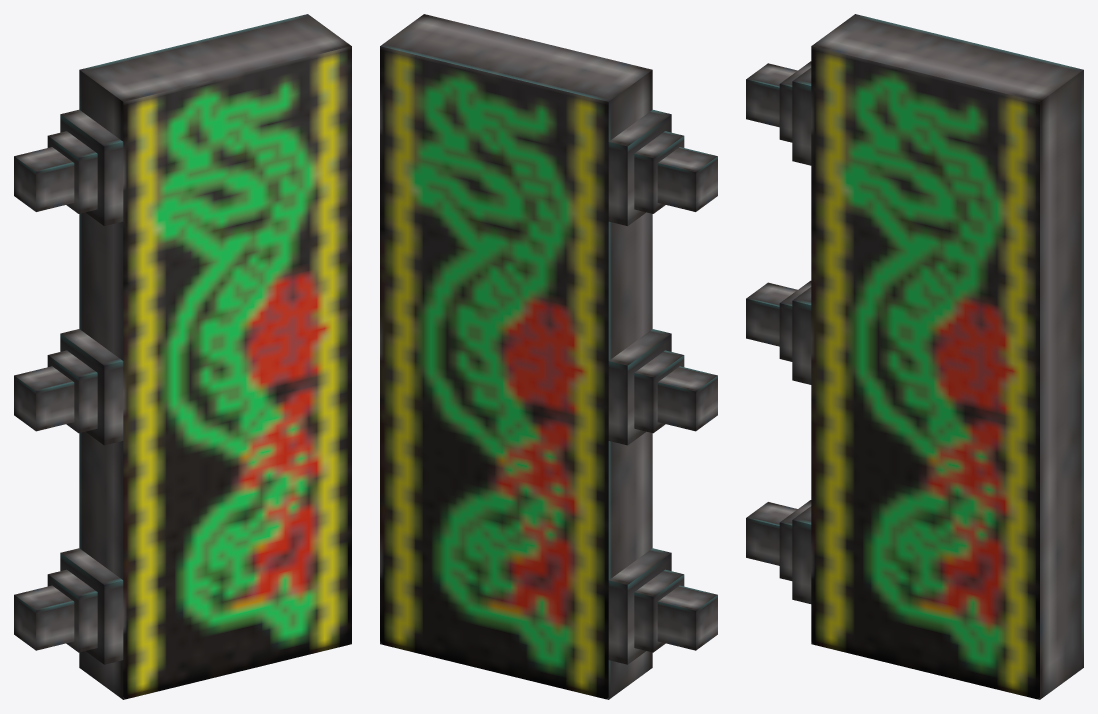
File: Poly_SF_Outside_B_Board_Neo_Sign_13.obj
The picture shows the model from 3 angles, left to right: view 1: azimuth 30°, elevation 25°; view 2: azimuth 150°, elevation 25°; view 3: azimuth 330°, elevation 25°; orthographic projection.
Parts seen in each view (by area): view 1: Cube, Cube.001; view 2: Cube, Cube.001; view 3: Cube, Cube.001.
Part boxes in pixels (bbox=[...]): Cube: bbox=[79, 14, 351, 699]; Cube.001: bbox=[14, 109, 123, 664]; Cube: bbox=[380, 14, 652, 699]; Cube.001: bbox=[608, 109, 717, 664]; Cube: bbox=[811, 14, 1083, 699]; Cube.001: bbox=[746, 61, 811, 603].
Bounding box in the file's own units: 0.8 × 1.5 × 0.2.
1 material, 1 textured.
